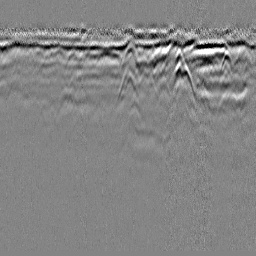cavity: (116, 63, 140, 99)
